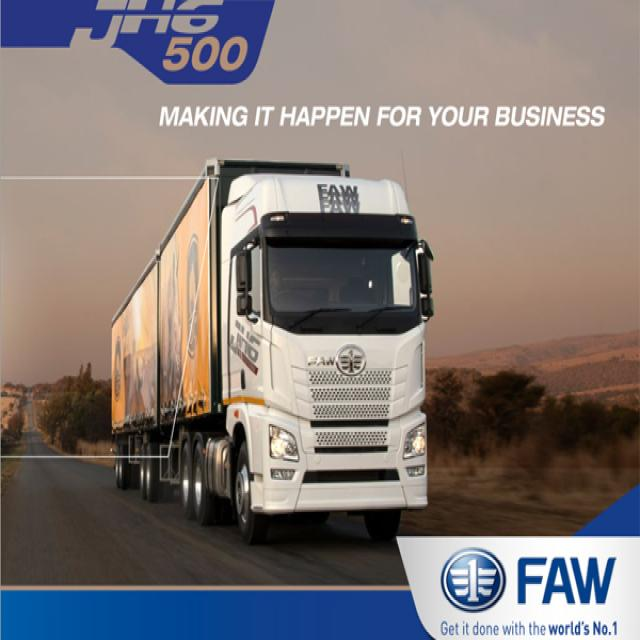Heavy Duty Truck: (111, 155, 434, 550)
